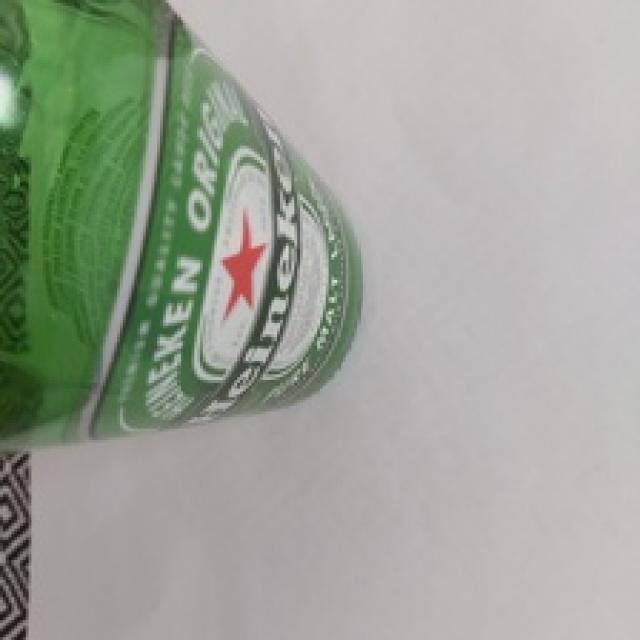garbage: (0, 0, 364, 429)
